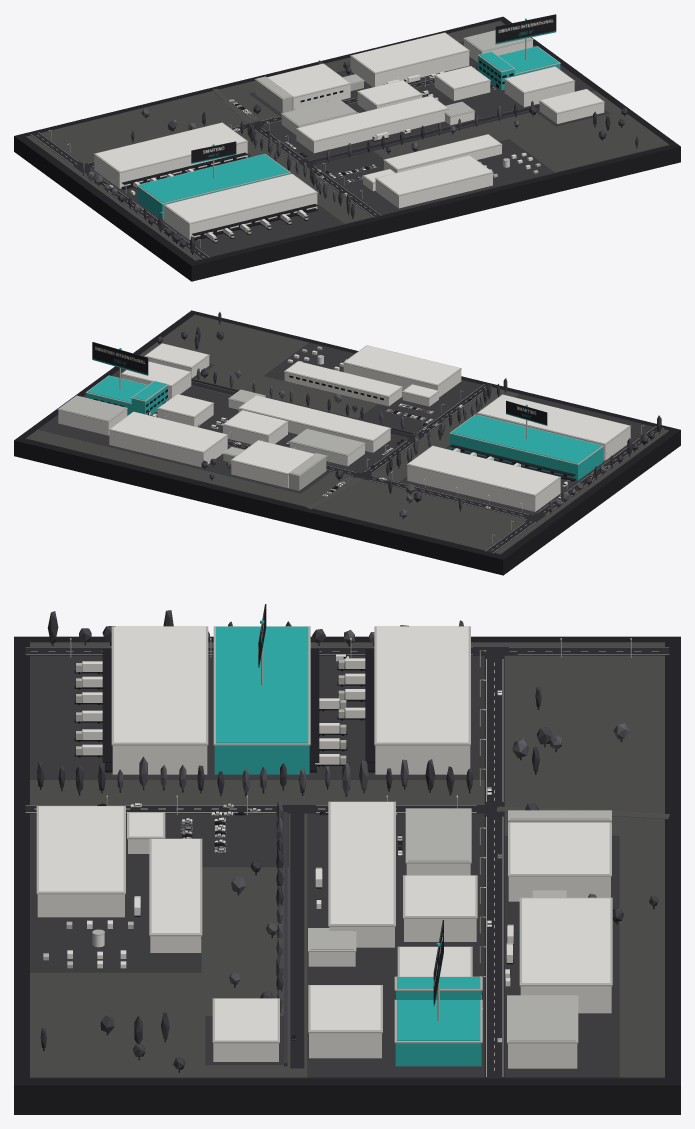
Rendered from otopeni.source.glb.
3 renders of one model, top to bottom at view 1: azimuth 30°, elevation 25°; view 2: azimuth 150°, elevation 25°; view 3: azimuth 270°, elevation 25°, orthographic. The views are drawn at different scales.
Parts seen in each view (by area): view 1: teren, soclu, platforma_3, platforma_2, brico_depot_acoperis_873, smartino_4000_acoperis_859, puratos_acoperis_845, platforma_1, macro_hala_acoperis_812, serpico_acoperis_766, caparol_acoperis_842, brico_depot_871 (+31 smaller); view 2: teren, soclu, platforma_3, puratos_acoperis_845, smartino_4000_acoperis_859, brico_depot_acoperis_873, puratos_843, macro_hala_acoperis_812, serpico_acoperis_766, platforma_2, caparol_acoperis_842, smartino_4000_857 (+32 smaller); view 3: teren, soclu, platforma_1, platforma_3, platforma_2, puratos_acoperis_845, brico_depot_acoperis_873, smartino_4000_acoperis_859, macro_hala_acoperis_812, serpico_acoperis_766, caparol_acoperis_842, platforma_0 (+39 smaller).
Boxes of the visible parts, bbox=[...] form: teren: bbox=[26, 21, 669, 260]; soclu: bbox=[14, 16, 680, 281]; platforma_3: bbox=[313, 139, 554, 214]; platforma_2: bbox=[260, 65, 594, 160]; brico_depot_acoperis_873: bbox=[165, 174, 315, 222]; smartino_4000_acoperis_859: bbox=[138, 154, 288, 202]; puratos_acoperis_845: bbox=[95, 123, 246, 171]; platforma_1: bbox=[89, 153, 344, 256]; macro_hala_acoperis_812: bbox=[297, 96, 447, 140]; serpico_acoperis_766: bbox=[351, 33, 467, 72]; caparol_acoperis_842: bbox=[376, 155, 491, 194]; brico_depot_871: bbox=[164, 193, 317, 239]; teren: bbox=[25, 315, 669, 554]; soclu: bbox=[14, 310, 680, 575]; platforma_3: bbox=[264, 342, 482, 435]; puratos_acoperis_845: bbox=[408, 446, 559, 494]; smartino_4000_acoperis_859: bbox=[451, 414, 601, 463]; brico_depot_acoperis_873: bbox=[478, 395, 628, 443]; puratos_843: bbox=[407, 465, 560, 511]; macro_hala_acoperis_812: bbox=[240, 395, 389, 440]; serpico_acoperis_766: bbox=[110, 412, 226, 451]; platforma_2: bbox=[82, 368, 408, 473]; caparol_acoperis_842: bbox=[345, 345, 459, 384]; smartino_4000_857: bbox=[450, 434, 603, 480]; teren: bbox=[30, 642, 664, 1078]; soclu: bbox=[14, 636, 680, 1114]; platforma_1: bbox=[30, 655, 484, 779]; platforma_3: bbox=[30, 813, 288, 972]; platforma_2: bbox=[307, 813, 484, 1077]; puratos_acoperis_845: bbox=[376, 626, 468, 743]; brico_depot_acoperis_873: bbox=[114, 626, 205, 743]; smartino_4000_acoperis_859: bbox=[216, 626, 308, 743]; macro_hala_acoperis_812: bbox=[330, 802, 393, 924]; serpico_acoperis_766: bbox=[522, 898, 610, 983]; caparol_acoperis_842: bbox=[39, 806, 123, 892]; platforma_0: bbox=[504, 835, 619, 1077].
Size of the model in its own units: 454 by 62.72 by 286.
22 materials, 3 textured.
